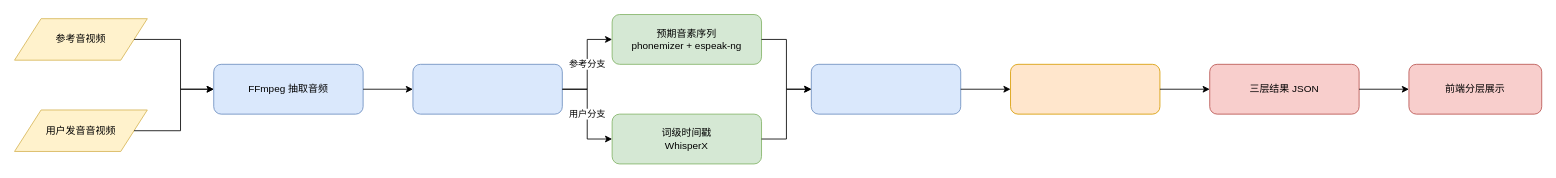
This 1556x178 diagram has some shape labels left out. Each missing label, with the centre of its shape:
"faster-whisper 转写" goes at point (487, 88).
"MFA 词/音素对齐" goes at point (885, 88).
"发音评分 GOP" goes at point (1085, 88).
